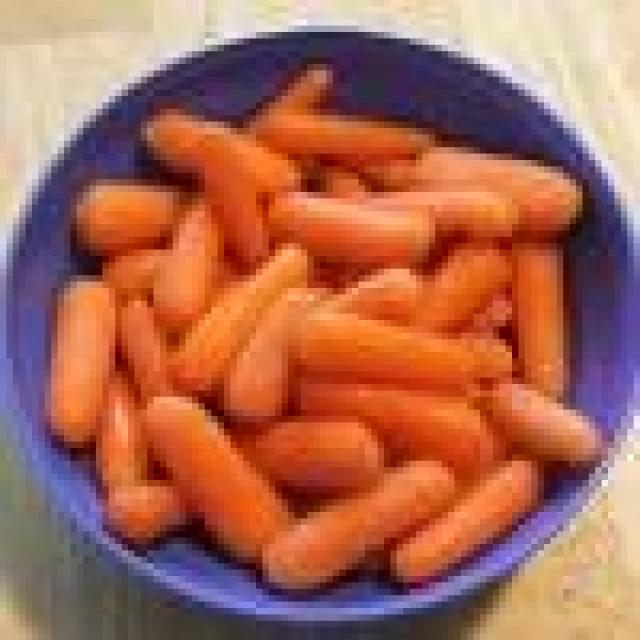Stale_Carrot: (261, 460, 456, 589), (144, 395, 289, 562), (145, 110, 300, 265), (169, 246, 309, 394), (301, 382, 504, 472), (300, 311, 512, 387), (269, 191, 436, 266), (221, 289, 304, 424), (512, 241, 566, 397)
